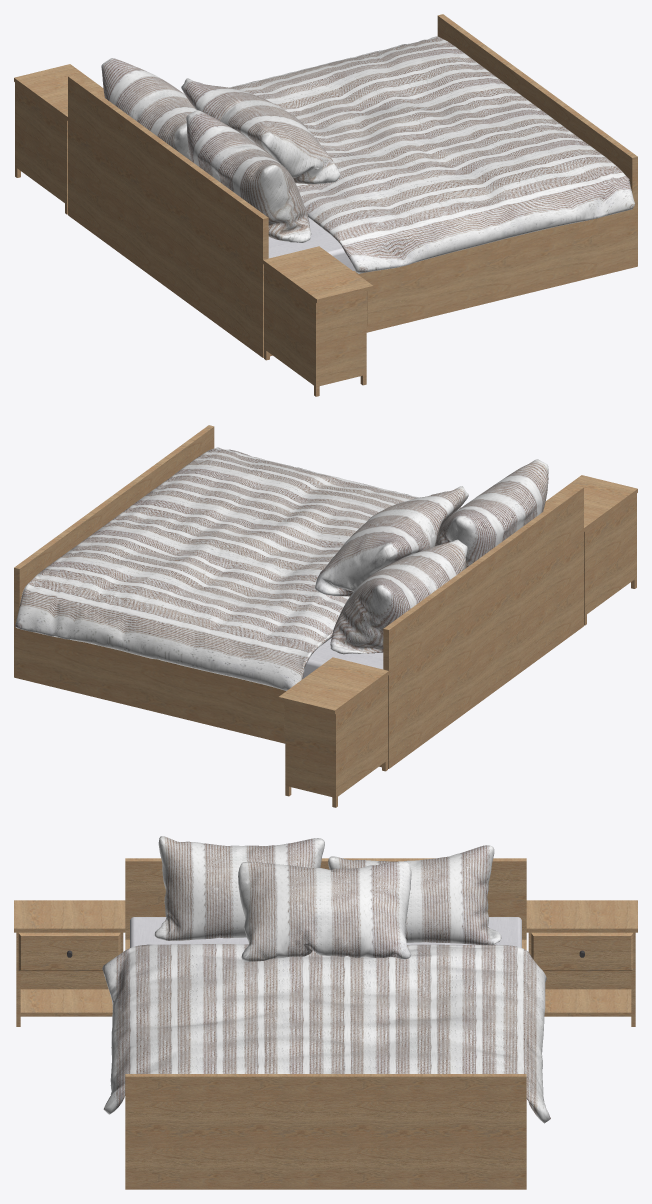
Rendered from Bed_large.FBX.
The picture shows the model from 3 angles, top to bottom: view 1: azimuth 30°, elevation 25°; view 2: azimuth 150°, elevation 25°; view 3: azimuth 270°, elevation 25°; orthographic projection. The views are drawn at different scales.
Visible parts, largest first — view 1: Large_bed, Duvet, Pillow001, Pillow002, Pillow003; view 2: Large_bed, Duvet, Pillow003, Pillow002, Pillow001; view 3: Large_bed, Duvet, Pillow002, Pillow001, Pillow003.
Boxes of the visible parts, box(x1,y1,x2,y2) form: Large_bed: box(14, 14, 637, 396); Duvet: box(229, 36, 634, 273); Pillow001: box(186, 110, 311, 242); Pillow002: box(181, 78, 340, 184); Pillow003: box(101, 58, 196, 160); Large_bed: box(14, 425, 637, 807); Duvet: box(15, 447, 461, 690); Pillow003: box(330, 539, 467, 654); Pillow002: box(315, 486, 468, 596); Pillow001: box(435, 459, 548, 568); Large_bed: box(14, 858, 637, 1189); Duvet: box(102, 944, 550, 1123); Pillow002: box(238, 861, 411, 961); Pillow001: box(154, 836, 324, 940); Pillow003: box(328, 845, 501, 944).
Bounding box in the file's own units: 78.74 × 34.69 × 110.
